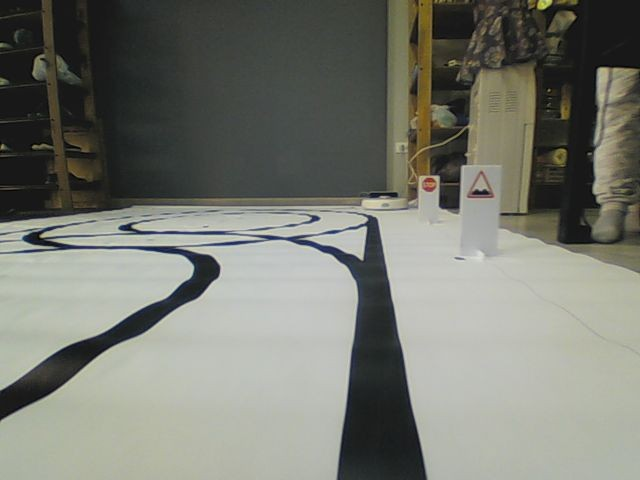Nerov: (467, 168, 495, 198)
Stop: (421, 177, 437, 192)
